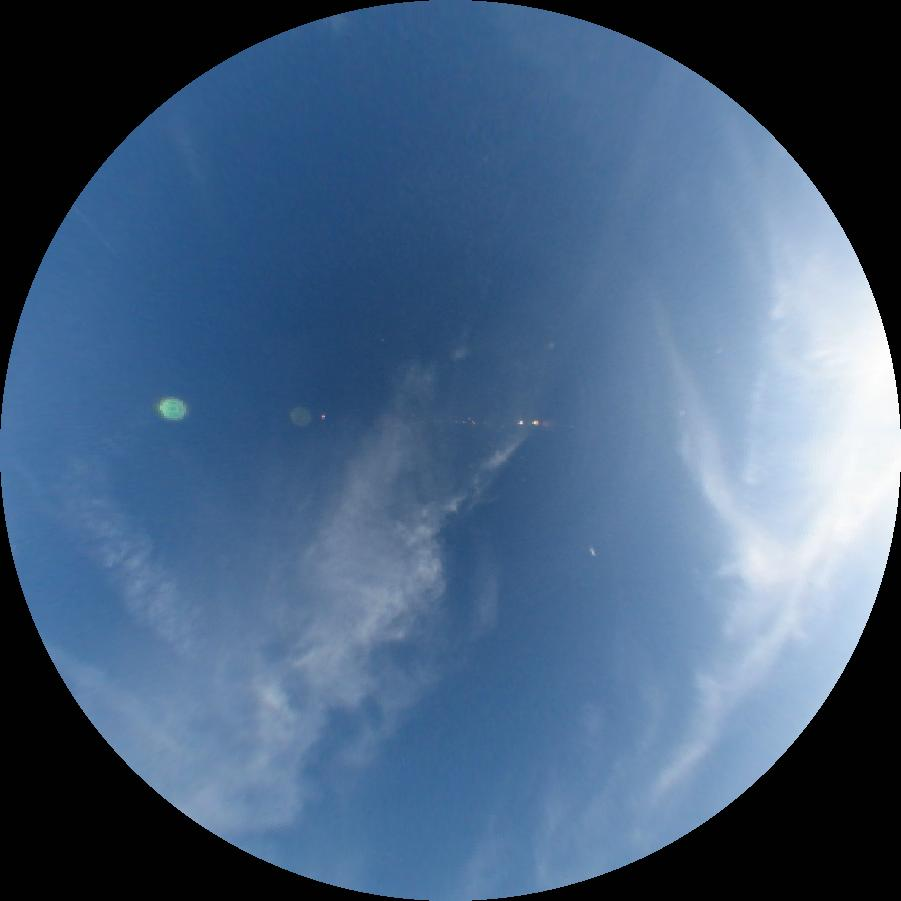contrail young: (72, 203, 125, 261)
